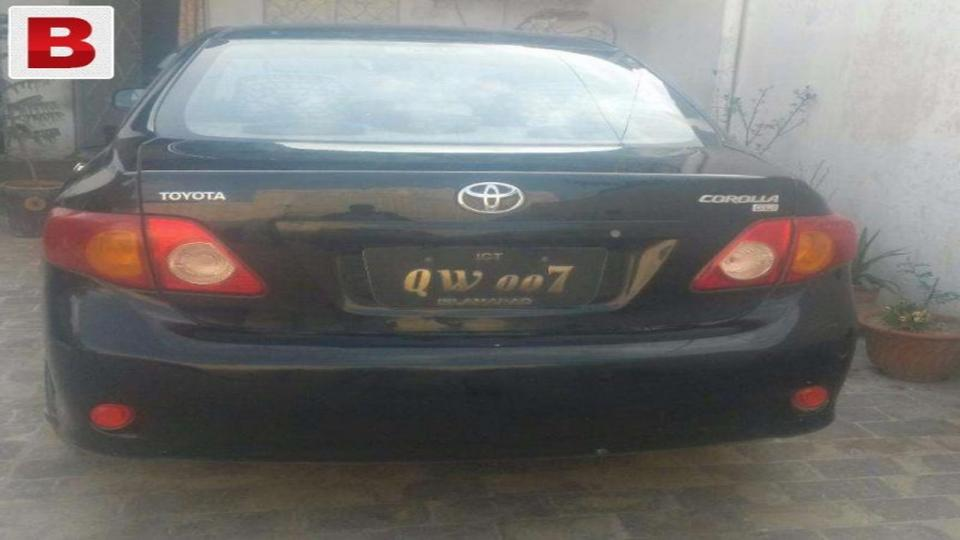NumberPlate: (363, 245, 618, 315)
